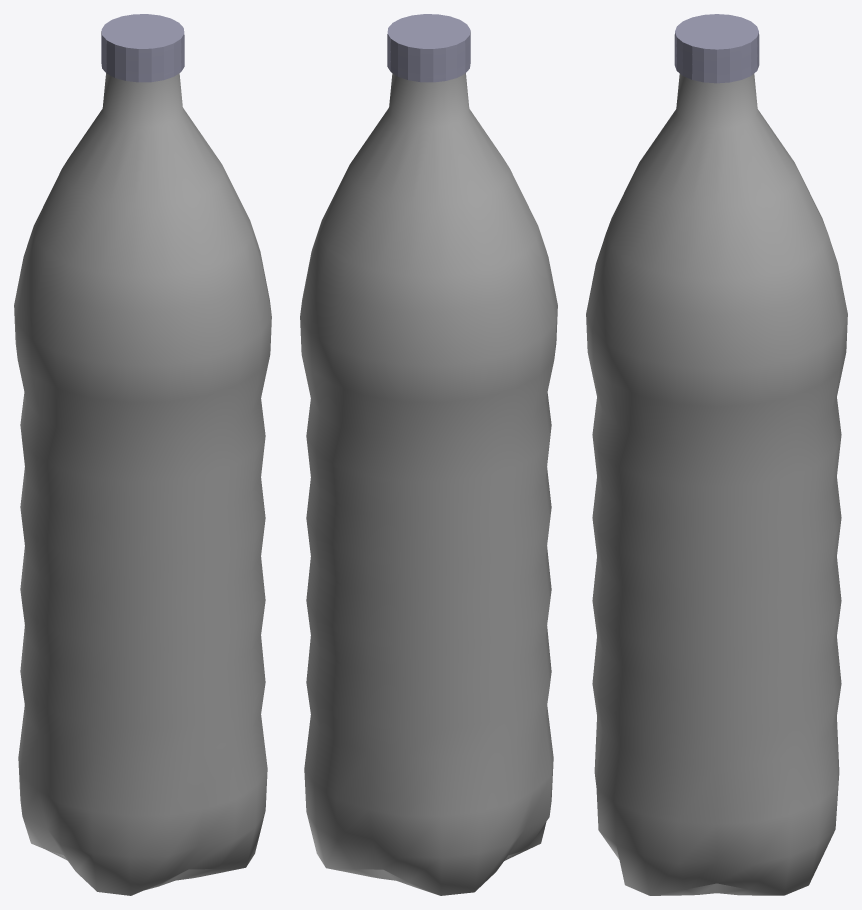
Rendered from WaterBottle.fbx.
The picture shows the model from 3 angles, left to right: view 1: azimuth 30°, elevation 25°; view 2: azimuth 150°, elevation 25°; view 3: azimuth 270°, elevation 25°; orthographic projection.
Parts seen in each view (by area): view 1: WaterBottle; view 2: WaterBottle; view 3: WaterBottle.
Boxes of the visible parts, x1,y1,x2,y2 form: WaterBottle: (14, 14, 271, 895); WaterBottle: (300, 14, 557, 895); WaterBottle: (586, 14, 847, 895).
Bounding box in the file's own units: 2.11 × 7.5 × 2.11.
